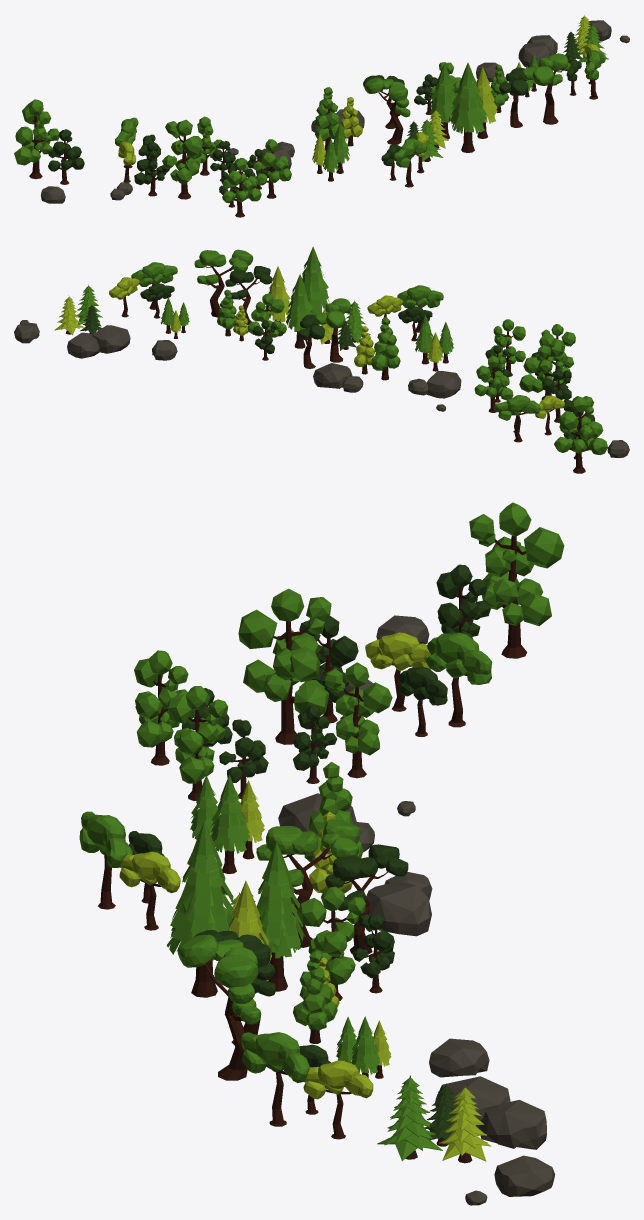
Rendered from Plant_2.FBX.
3 renders of one model, top to bottom at view 1: azimuth 30°, elevation 25°; view 2: azimuth 150°, elevation 25°; view 3: azimuth 270°, elevation 25°, orthographic. The views are drawn at different scales.
Parts seen in each view (by area): view 1: huitugou_2405_038, huitugou_2405_025, huitugou_2405_029, huitugou_2405_036, huitugou_2405_024, huitugou_2405_037, huitugou_2405_023, huitugou_2405_021, huitugou_2405_022, huitugou_2405_028, huitugou_2405_026, huitugou_2405_027 (+9 smaller); view 2: huitugou_2405_038, huitugou_2405_036, huitugou_2405_029, huitugou_2405_025, huitugou_2405_034, huitugou_2405_022, huitugou_2405_037, huitugou_2405_024, 石头018, huitugou_2405_027, huitugou_2405_035, huitugou_2405_033 (+12 smaller); view 3: huitugou_2405_038, huitugou_2405_025, huitugou_2405_029, huitugou_2405_027, huitugou_2405_037, huitugou_2405_036, huitugou_2405_034, huitugou_2405_028, huitugou_2405_023, huitugou_2405_033, huitugou_2405_022, huitugou_2405_035 (+10 smaller).
Boxes of the visible parts, box(x1,y1,x2,y2) form: huitugou_2405_038: box(429, 62, 497, 152); huitugou_2405_025: box(14, 99, 84, 184); huitugou_2405_029: box(134, 119, 202, 199); huitugou_2405_036: box(499, 53, 570, 127); huitugou_2405_024: box(315, 87, 362, 150); huitugou_2405_037: box(363, 75, 410, 144); huitugou_2405_023: box(244, 139, 291, 198); huitugou_2405_021: box(219, 158, 261, 217); huitugou_2405_022: box(381, 132, 428, 187); huitugou_2405_028: box(186, 116, 236, 181); huitugou_2405_026: box(312, 123, 349, 181); huitugou_2405_027: box(115, 117, 155, 182); huitugou_2405_038: box(265, 246, 329, 348); huitugou_2405_036: box(194, 249, 272, 324); huitugou_2405_029: box(519, 333, 573, 422); huitugou_2405_025: box(554, 396, 607, 473); huitugou_2405_034: box(109, 262, 177, 318); huitugou_2405_022: box(367, 285, 443, 341); huitugou_2405_037: box(298, 298, 350, 368); huitugou_2405_024: box(354, 317, 400, 380); 石头018: box(67, 325, 130, 358); huitugou_2405_027: box(494, 395, 564, 442); huitugou_2405_035: box(247, 293, 286, 360); huitugou_2405_033: box(54, 284, 102, 335); huitugou_2405_038: box(166, 820, 305, 1020); huitugou_2405_025: box(436, 502, 564, 658); huitugou_2405_029: box(238, 588, 358, 744); huitugou_2405_027: box(365, 632, 492, 736); huitugou_2405_037: box(256, 819, 408, 954); huitugou_2405_036: box(177, 930, 275, 1080); huitugou_2405_034: box(241, 1032, 373, 1139); huitugou_2405_028: box(293, 662, 392, 783); huitugou_2405_023: box(167, 686, 268, 800); huitugou_2405_033: box(377, 1075, 491, 1163); huitugou_2405_022: box(79, 811, 180, 930); huitugou_2405_035: box(297, 886, 394, 1000).
Size of the model in its own units: 17686 by 2469 by 6275.
